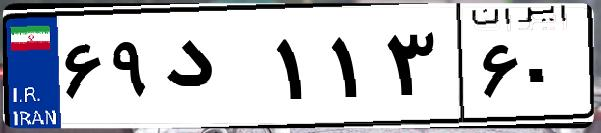0: (525, 38, 570, 115)
1: (270, 28, 330, 110), (330, 28, 385, 110)
3: (385, 28, 445, 110)
6: (57, 26, 110, 100), (475, 38, 525, 113)
9: (110, 28, 158, 98)
د: (158, 20, 270, 120)
